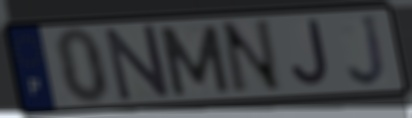0: (50, 26, 113, 107)
J: (345, 12, 390, 89), (288, 17, 333, 90)
M: (155, 23, 234, 99)
N: (102, 22, 173, 104), (218, 17, 287, 98)
